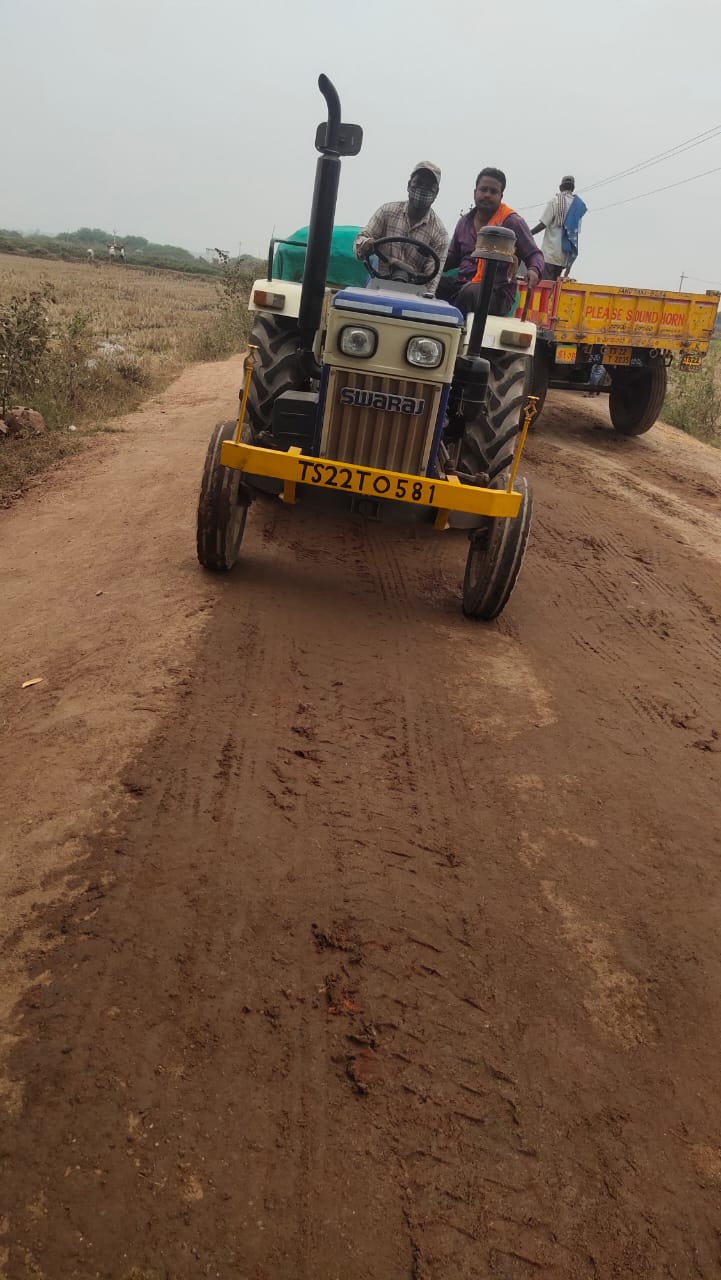num_plate: (294, 450, 444, 515)
